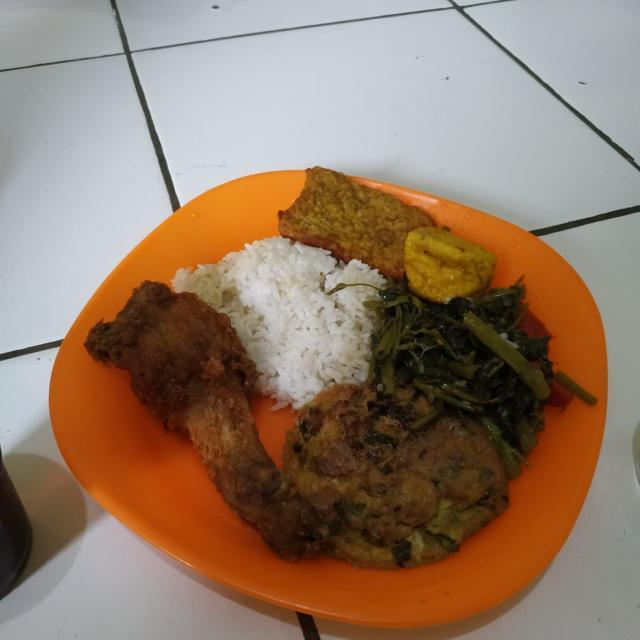nasi_putih: (192, 214, 399, 385)
